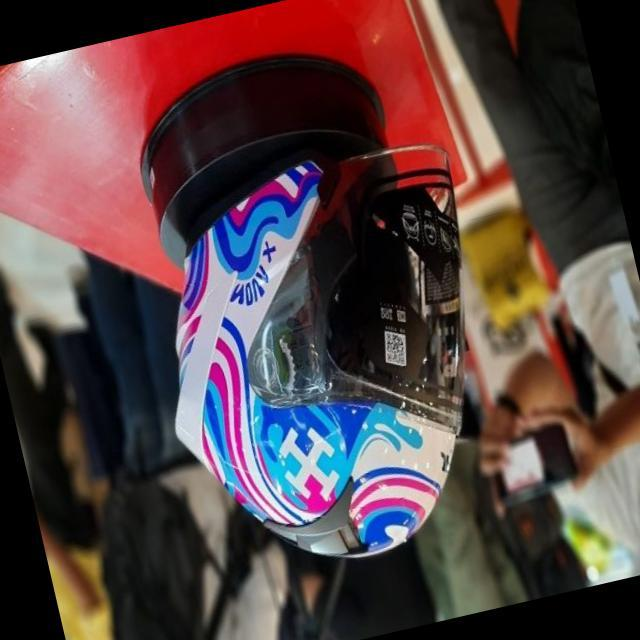Helm: (113, 104, 556, 596)
